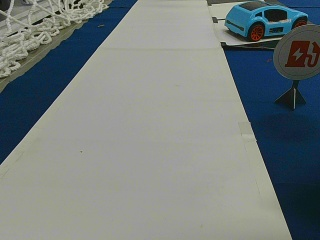battery: (274, 24, 319, 81)
car: (225, 3, 308, 41)
